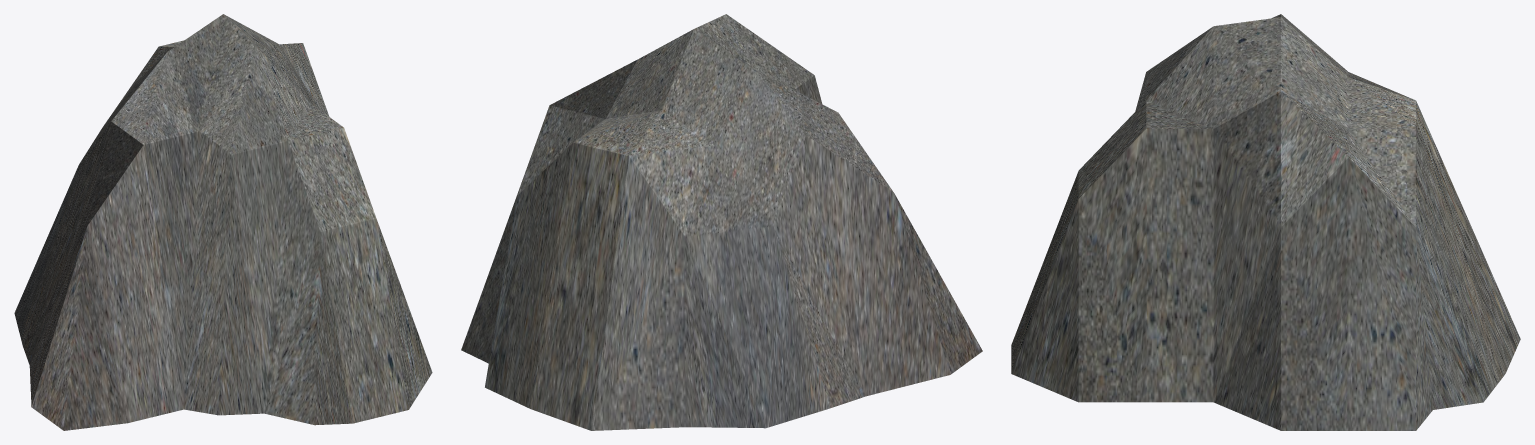
File: rock1.glb
3 views of the same model, side by side, from view 1: azimuth 30°, elevation 25°; view 2: azimuth 150°, elevation 25°; view 3: azimuth 270°, elevation 25° (orthographic). The views are drawn at different scales.
Visible parts, largest first — view 1: Grid; view 2: Grid; view 3: Grid.
Part boxes in pixels (<box>): Grid: <box>14,14,432,430</box>; Grid: <box>461,14,982,430</box>; Grid: <box>1011,14,1520,430</box>.
Size of the model in its own units: 1.4 by 1.07 by 1.51.
Materials: 1 (1 with a texture image).
